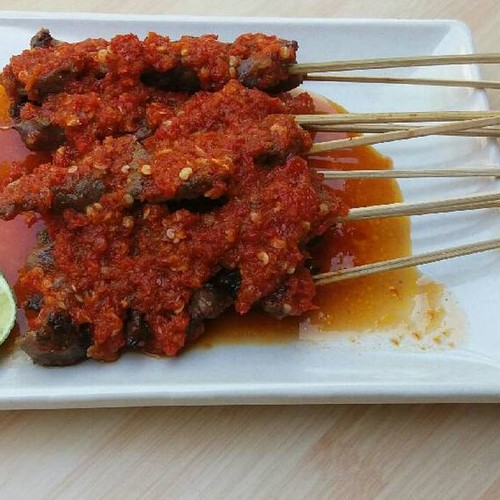sate plecing: (10, 36, 325, 353)
